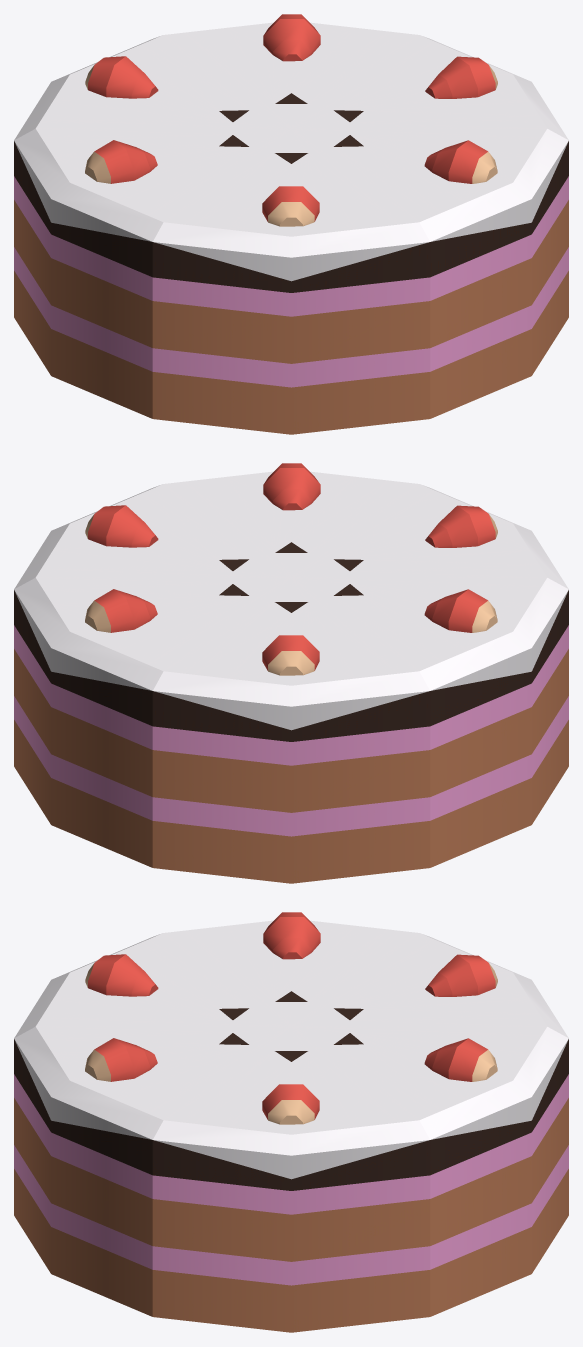
The model's file is cake.glb.
The picture shows the model from 3 angles, top to bottom: view 1: azimuth 30°, elevation 25°; view 2: azimuth 150°, elevation 25°; view 3: azimuth 270°, elevation 25°; orthographic projection.
Visible parts, largest first — view 1: slice; view 2: slice; view 3: slice.
Part boxes in pixels (bbox=[...]): slice: bbox=[14, 14, 568, 434]; slice: bbox=[14, 463, 568, 883]; slice: bbox=[14, 912, 568, 1332].
Bounding box in the file's own units: 0.6392 × 0.2731 × 0.6392.
1 material, 1 textured.
